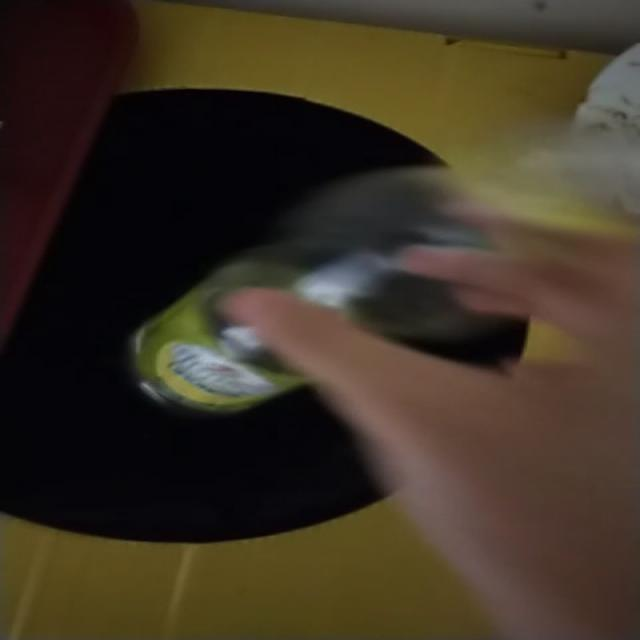plastic: (133, 168, 527, 413)
